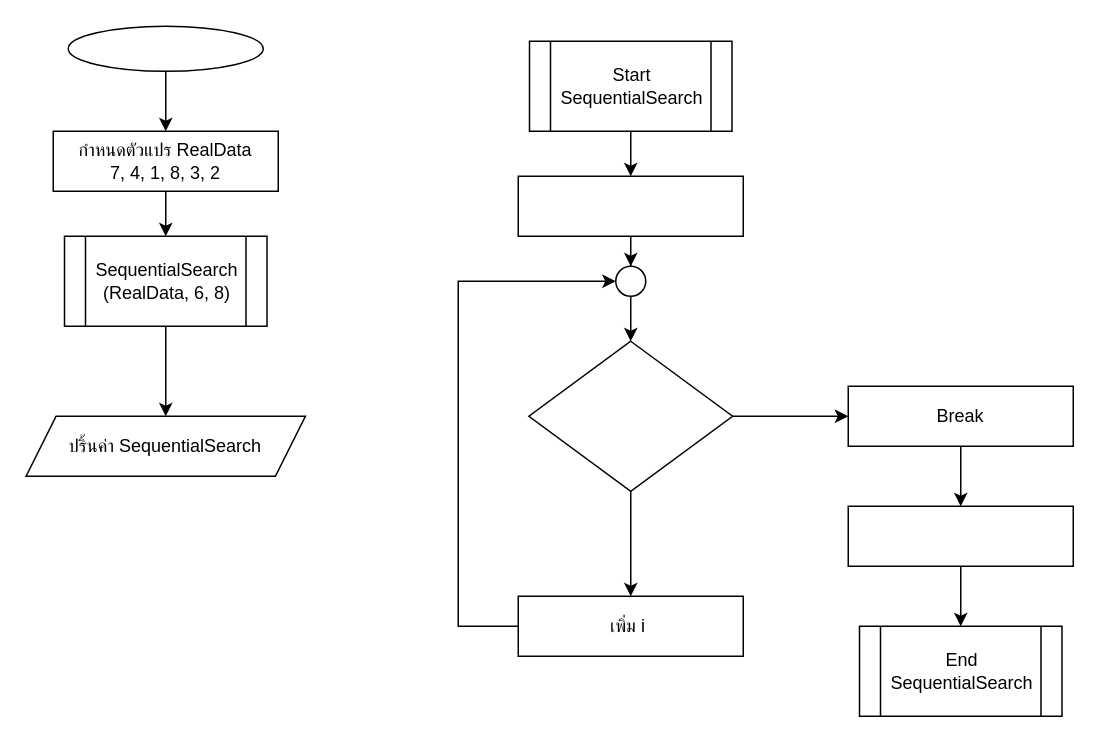
This 1101x743 diagram has some shape labels left out. Each missing label, with the centre of its shape:
"RealData = 8 หรือไม่" goes at [630,415].
"Start" goes at [165,48].
"กำหนดตัวแปร Output" goes at [630,205].
"ส่งค่าออกจาก SequentialSearch" goes at [960,535].
